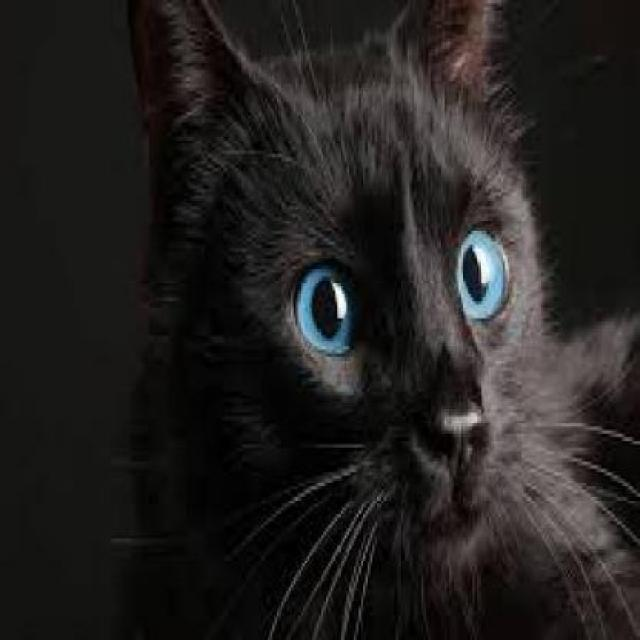animals: (134, 7, 600, 619)
